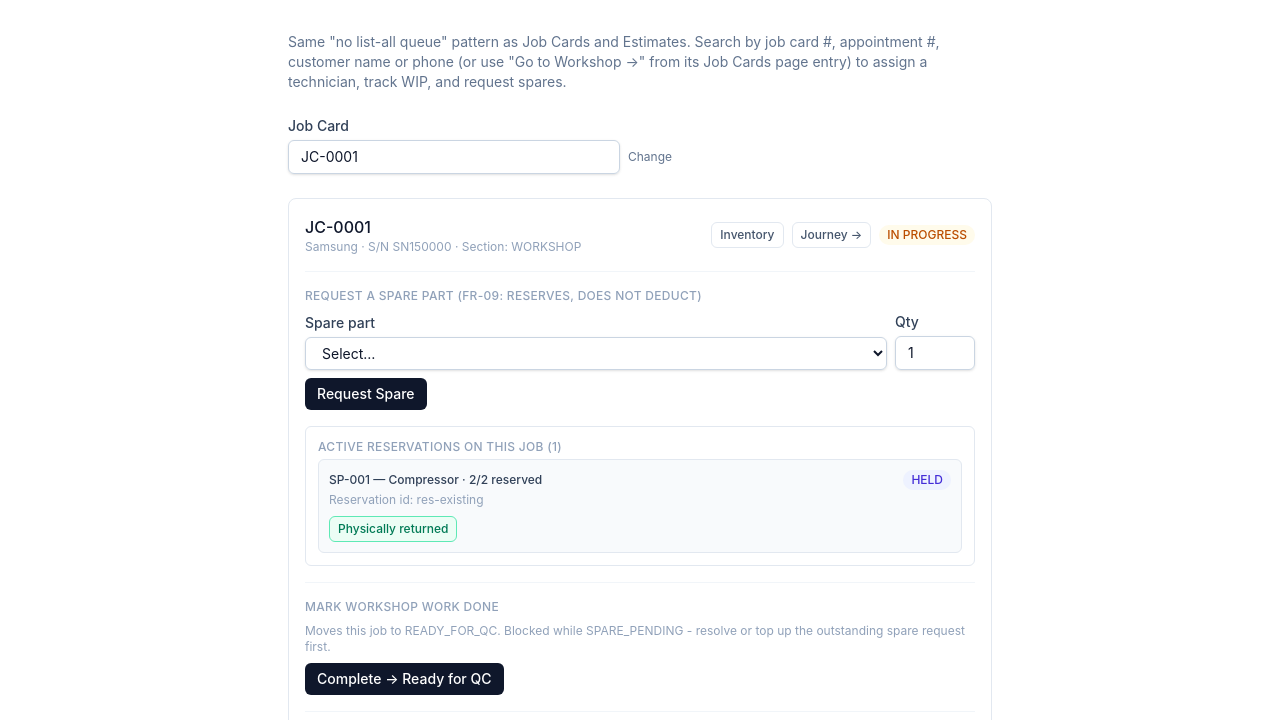
Scenario: WorkshopPage - confirm before requesting the same spare part again › asks for confirmation instead of submitting when the part already has an active reservation on this job
The width and height of the screenshot is (1280, 720).
Step 1. Select "SP-001 — Compressor" in the dropdown labelled "Spare part" → (596, 354), box [305,337,887,370]
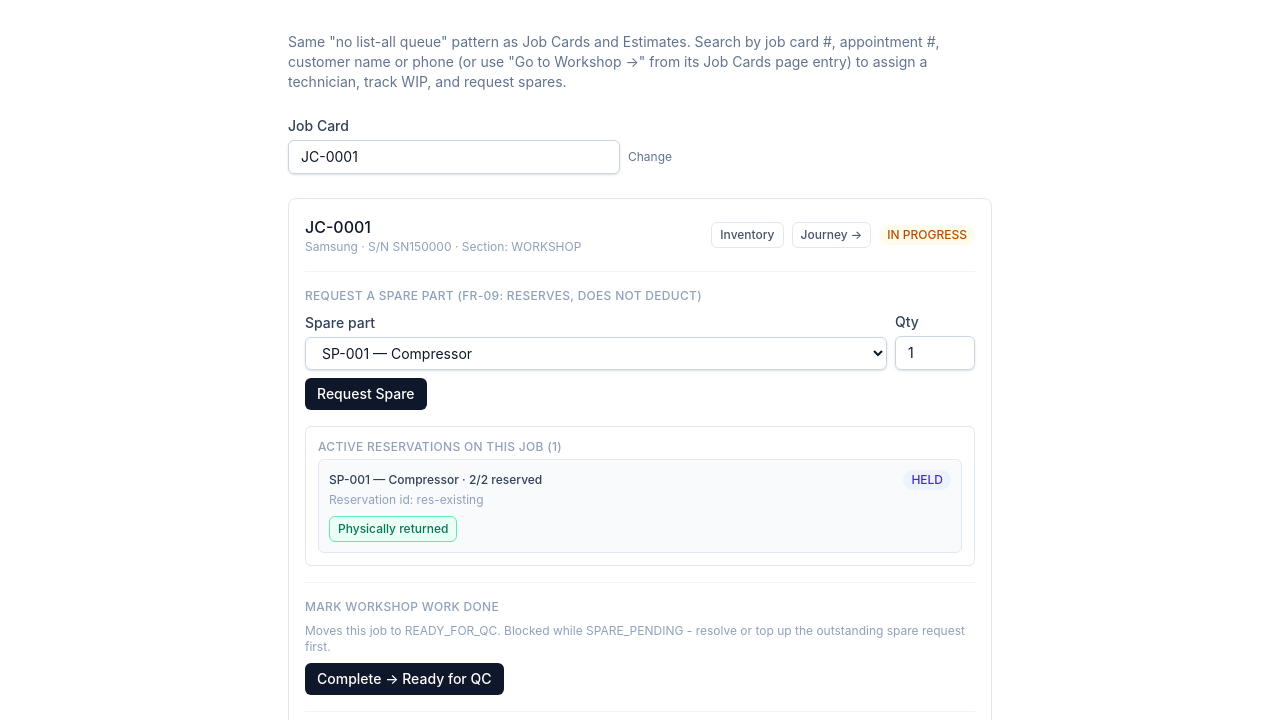
Step 2. Click the button "Request Spare" → (366, 394), box [305,378,427,410]
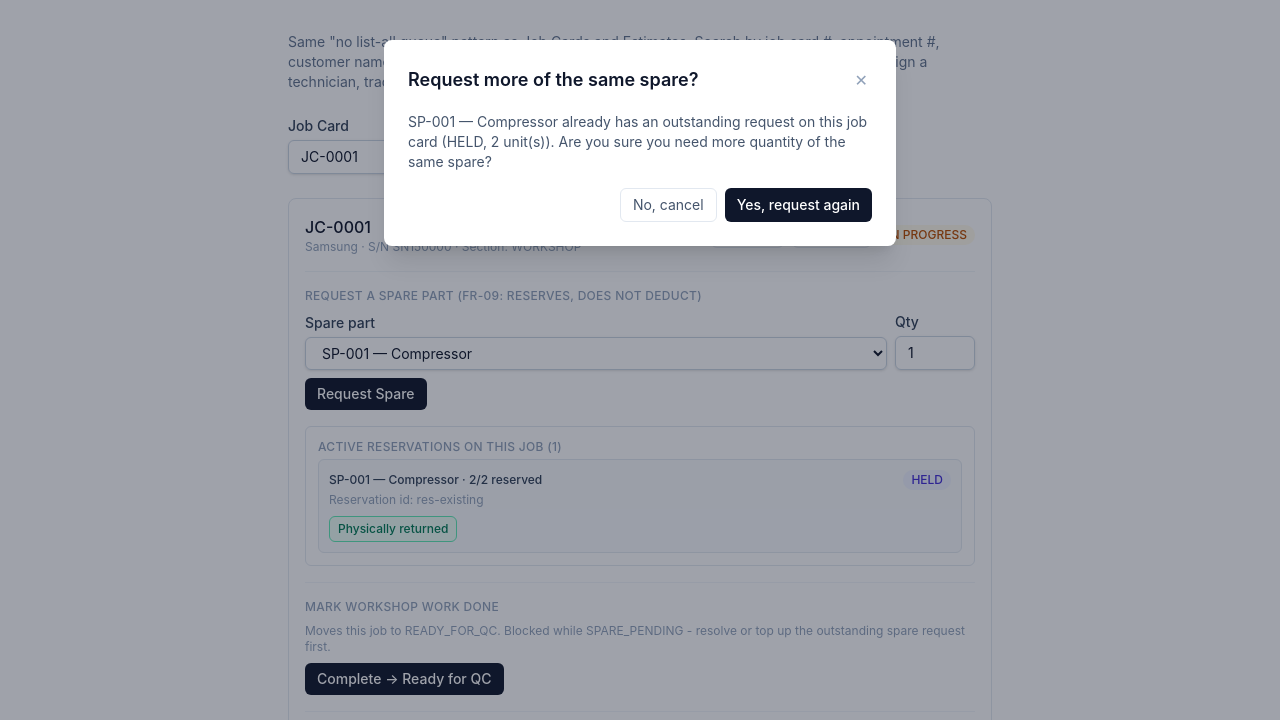
Now the heading "Request more of the same spare?" is shown, box [408,66,698,94]
Now the text "SP-001 — Compressor already has an outstanding request on this job card (HELD, 2 unit(s))" is shown, box [408,112,872,172]
